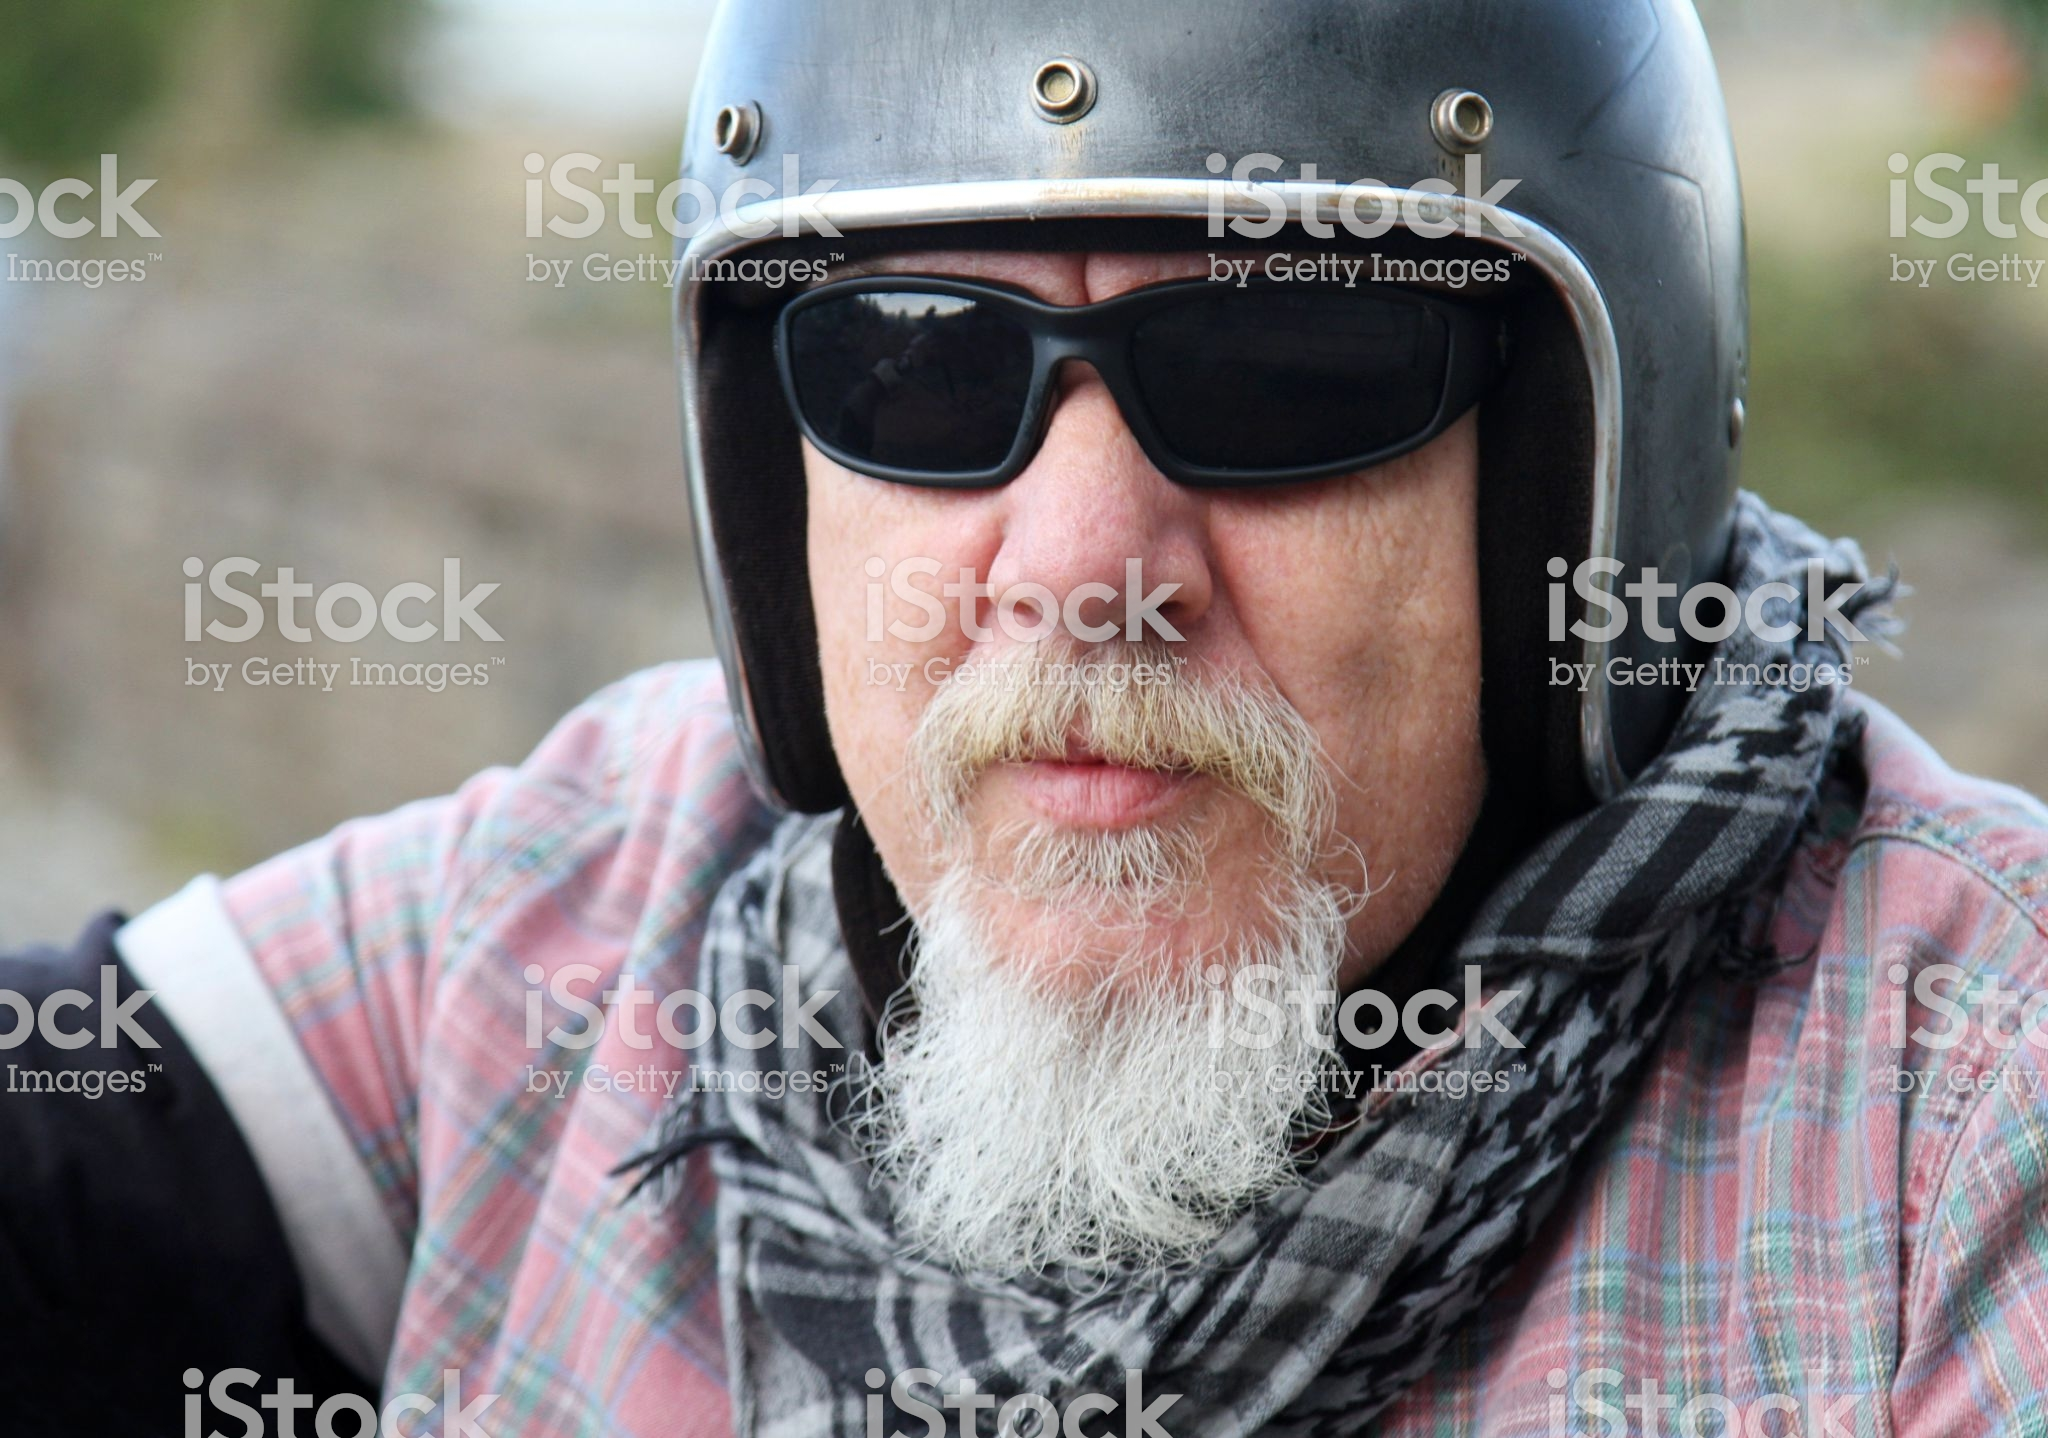helmet: (640, 30, 1777, 777)
